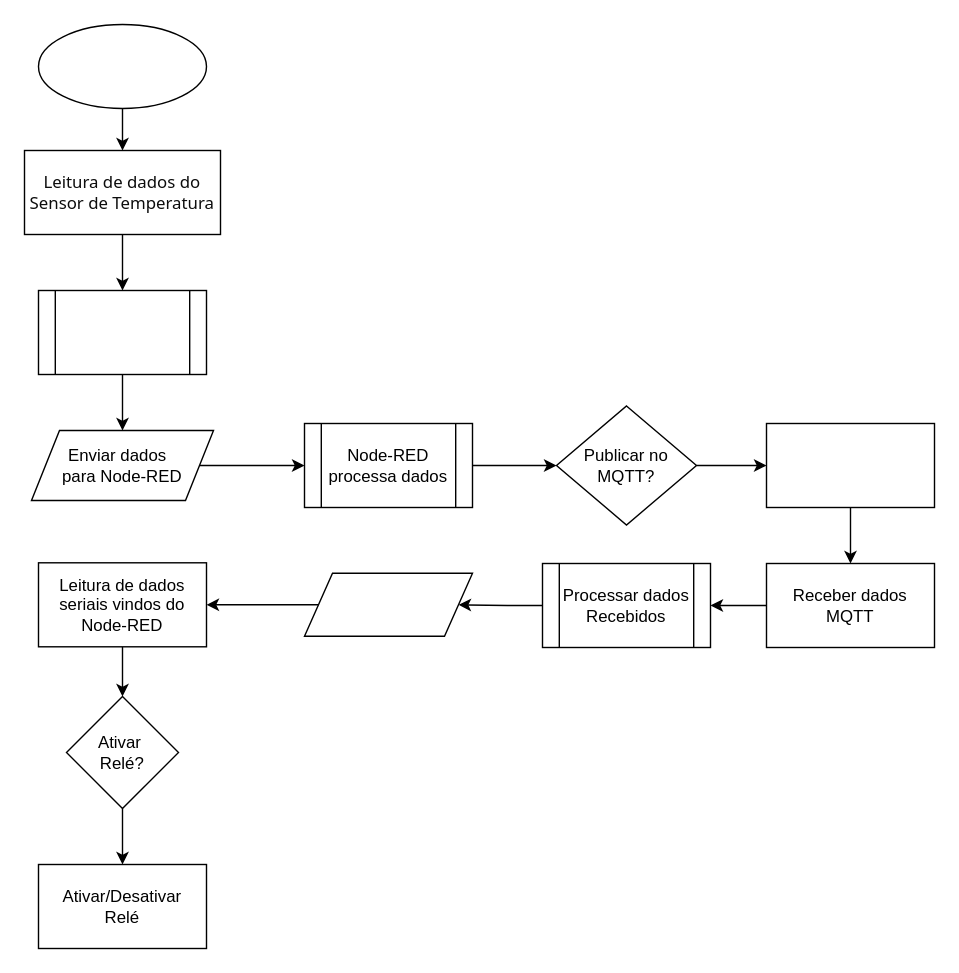
This 959x973 diagram has some shape labels left out. Here are the shapes that lost their labels. From the top down, the box of each, then its label:
(37, 23, 206, 108): Iniciar sistema
(37, 289, 206, 374): Processamento dos dados do sensor
(765, 422, 934, 507): Publicar Dados no MQTT
(303, 572, 472, 636): Enviar dados para Arduino
